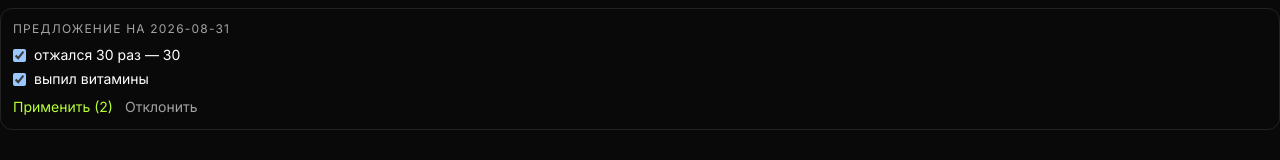
Test: ChatPlanCard › does not offer to apply nothing
Click the checkbox labelled "отжался 30 раз — 30" at (20, 55), box [13, 48, 26, 62]
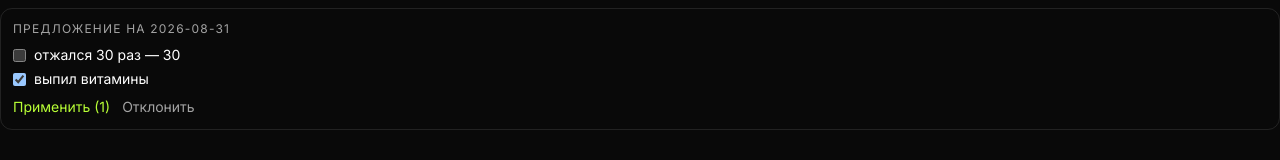
Click the checkbox labelled "выпил витамины" at (20, 79), box [13, 72, 26, 86]
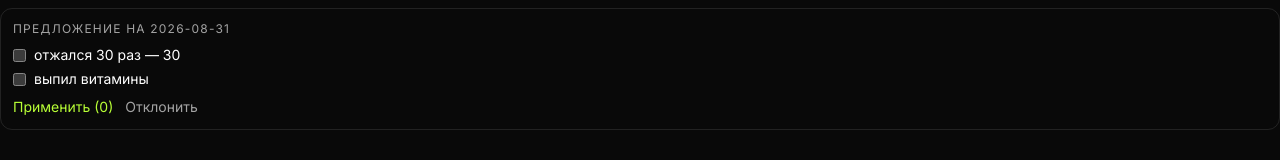
Now the button "Применить (0)" is disabled, box [13, 97, 113, 117]
